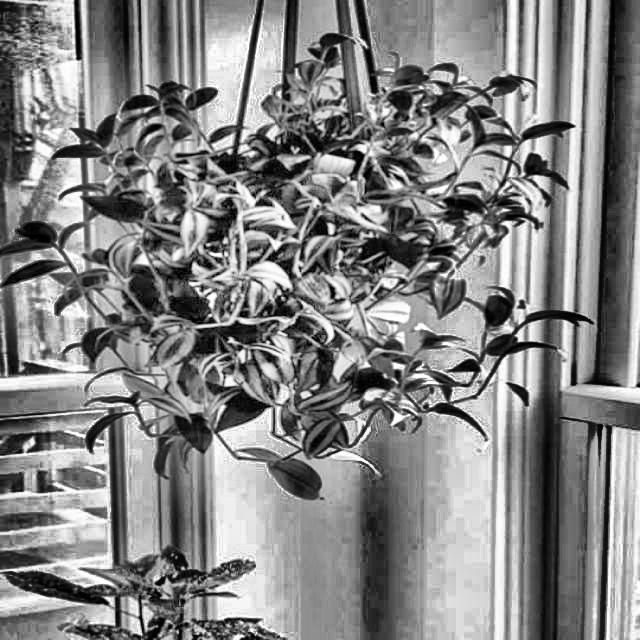plants: (8, 32, 600, 504)
